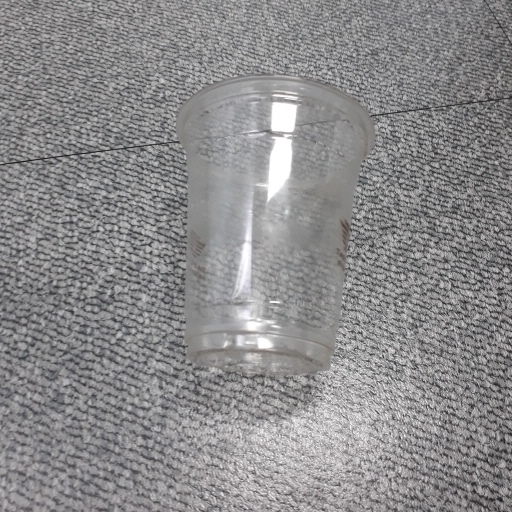Plastic_2: (173, 71, 378, 376)
